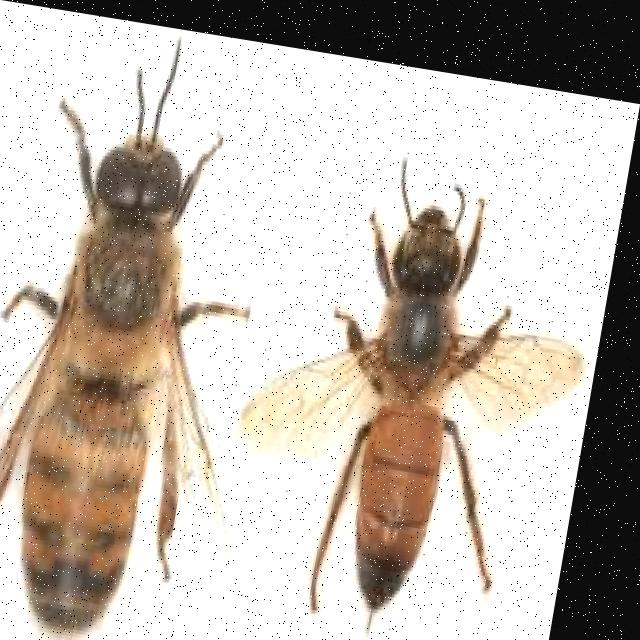Apis-mellifera-scutellata: (234, 98, 620, 640), (0, 9, 298, 640)
